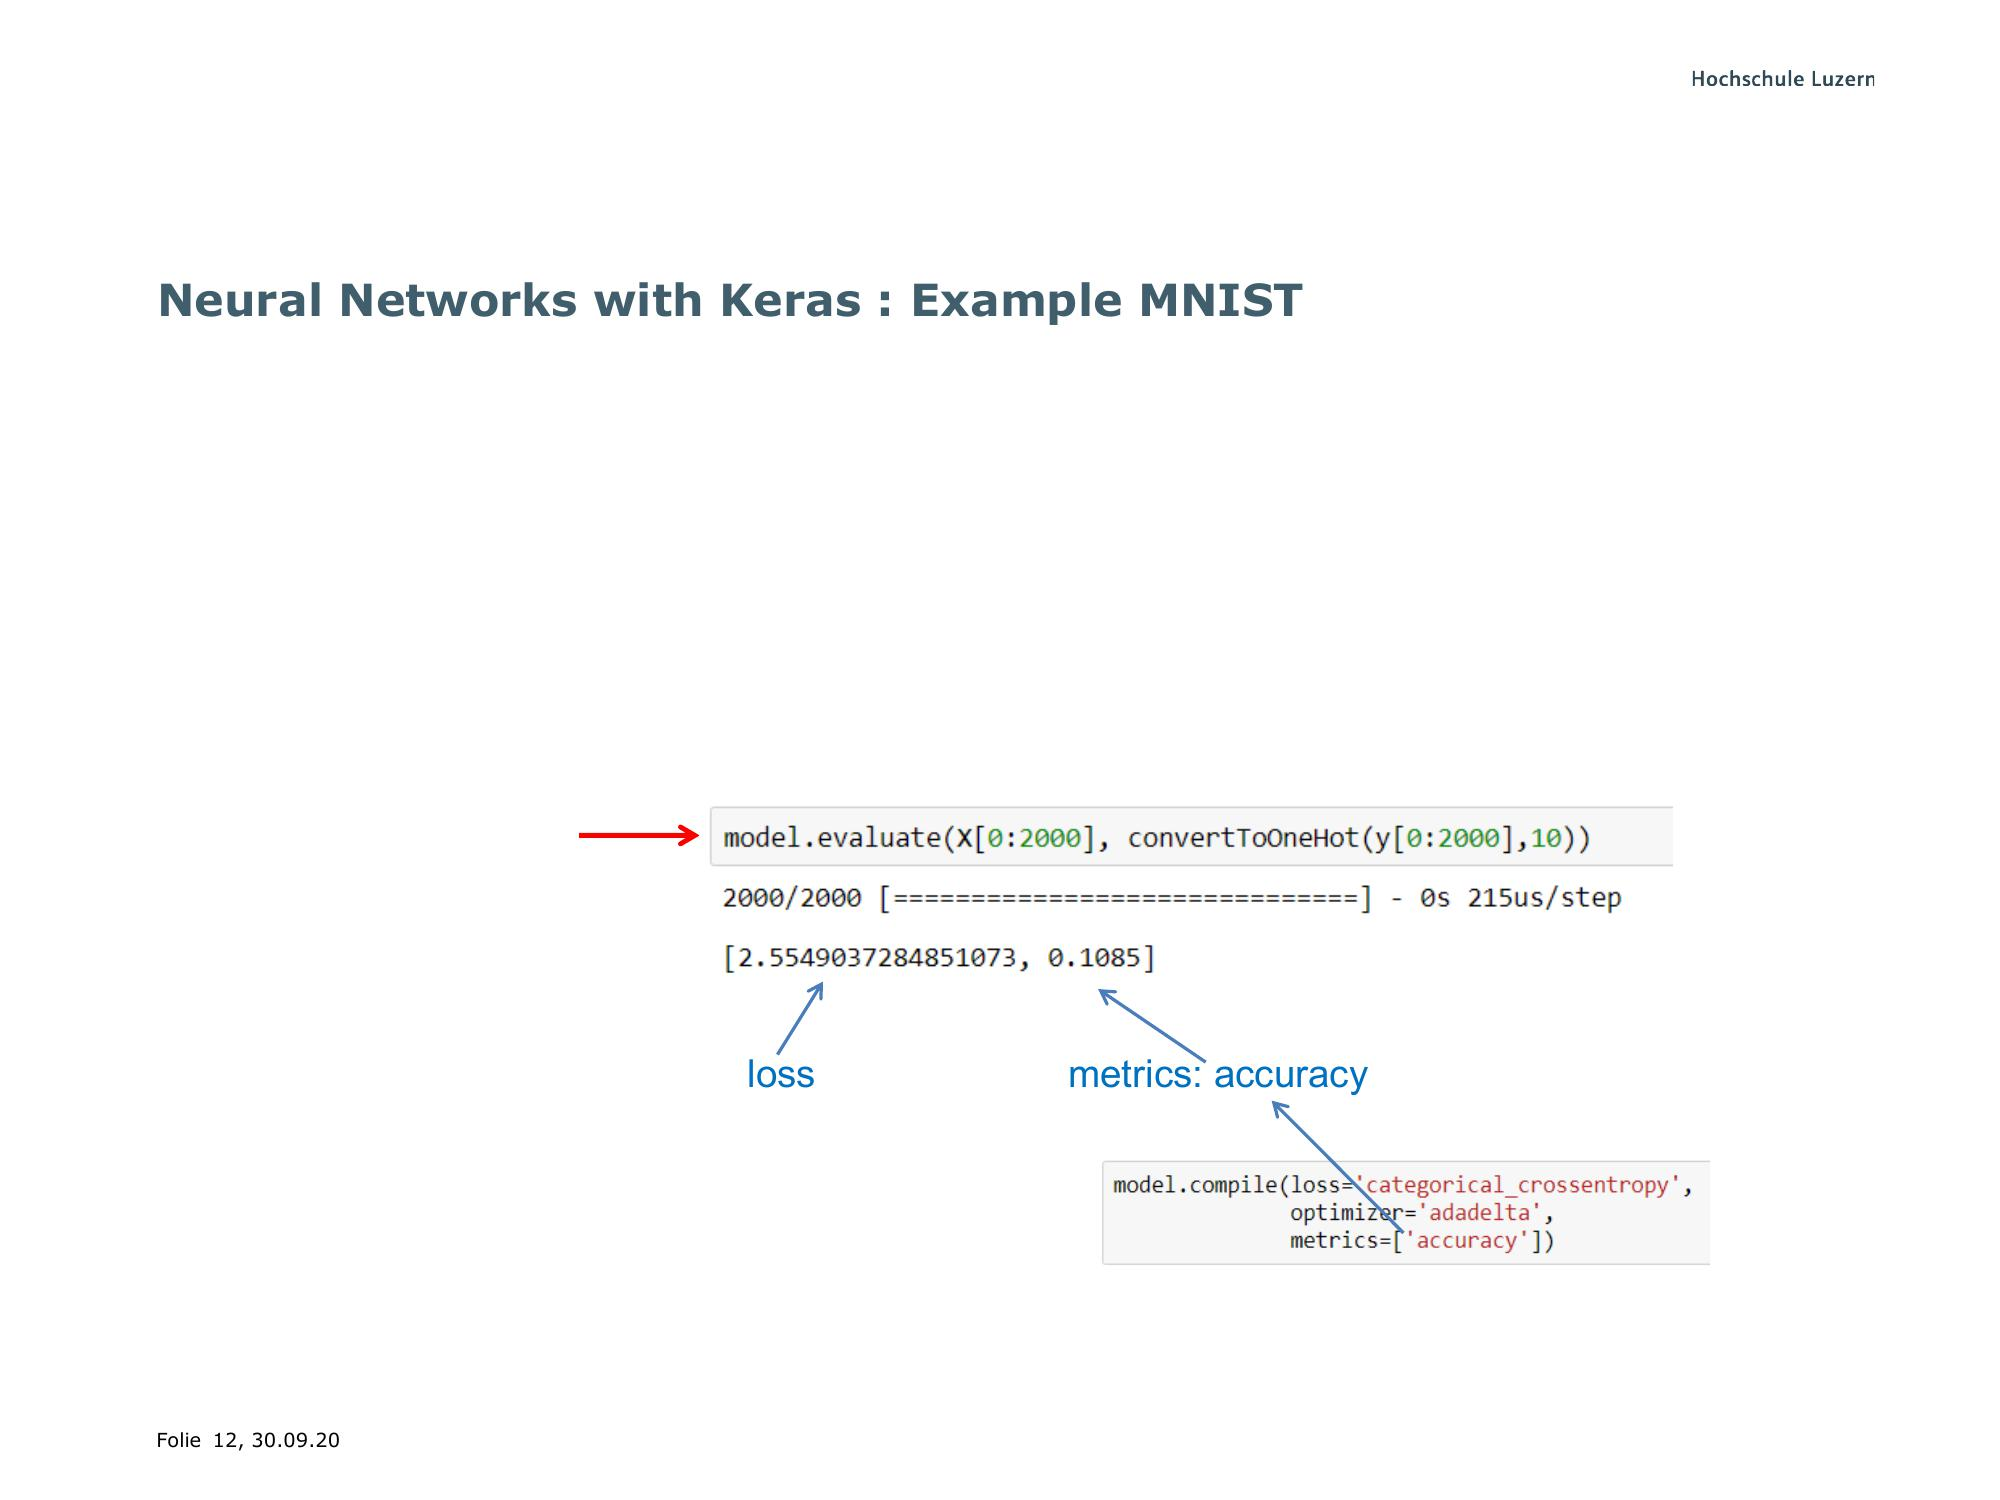Title: (109, 266, 1302, 347)
